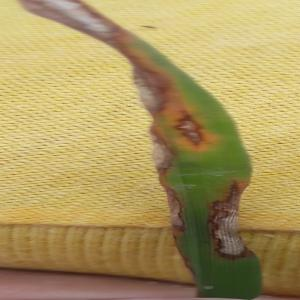1 RiceBlast: (201, 179, 253, 283), (46, 1, 126, 46), (147, 177, 200, 243), (116, 54, 169, 114), (171, 103, 227, 152), (142, 121, 181, 174)
